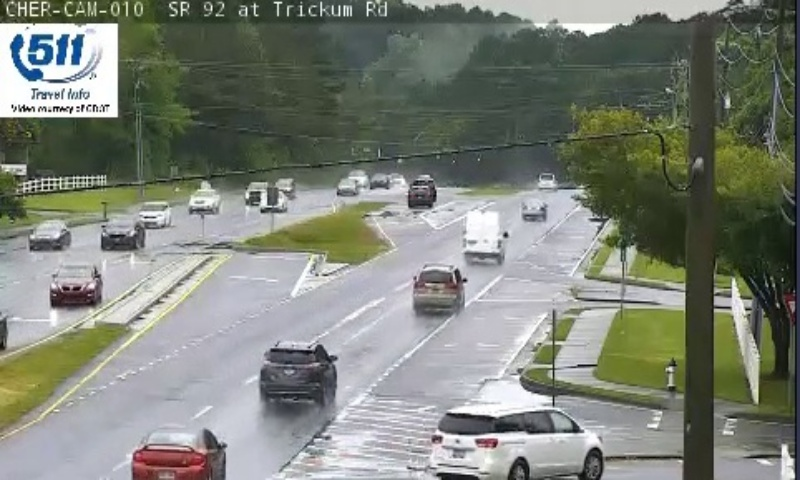car: (132, 427, 225, 480), (259, 342, 337, 402), (413, 265, 463, 312), (521, 196, 547, 220)
van: (463, 211, 504, 258)
